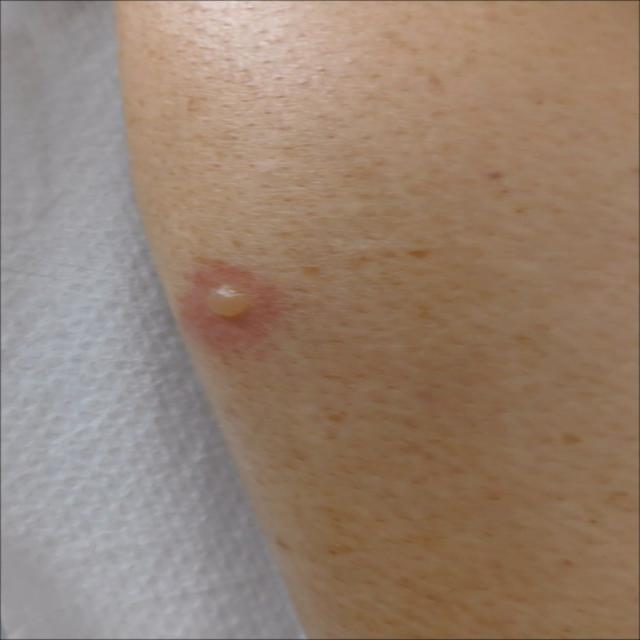kan emici bocekler: (166, 259, 300, 355)
